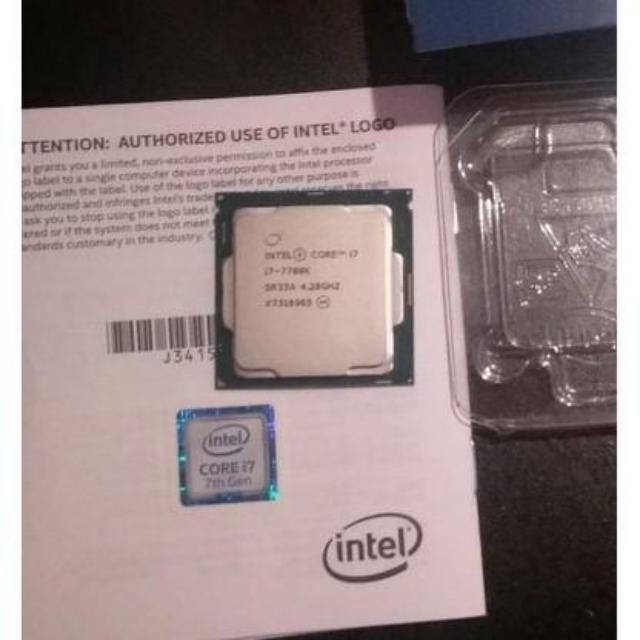CPU: (232, 190, 406, 384)
